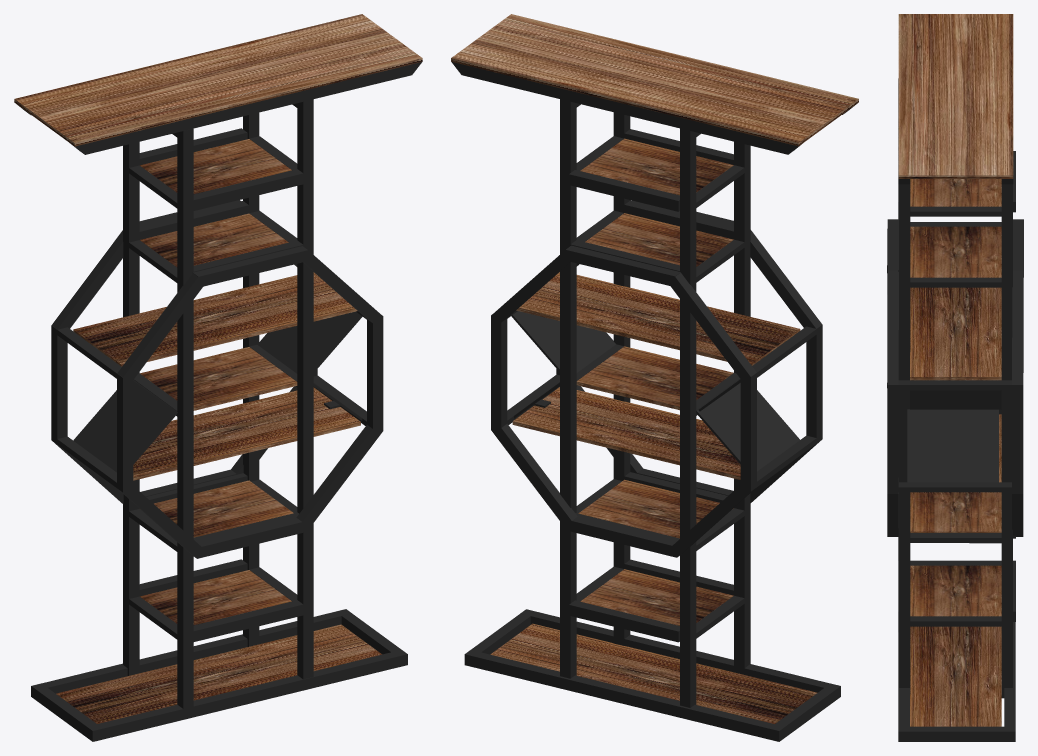
Rendered from etagere_4.glb.
The picture shows the model from 3 angles, left to right: view 1: azimuth 30°, elevation 25°; view 2: azimuth 150°, elevation 25°; view 3: azimuth 270°, elevation 25°; orthographic projection. The views are drawn at different scales.
Visible parts, largest first — view 1: Cube.096, Cube.003, Cube.136, Cube.157, Cube.153, Cube.135, Cube.155, Cube.054, Cube.146, Cube.075, Cube.133, Cube.141 (+31 smaller); view 2: Cube.096, Cube.003, Cube.136, Cube.155, Cube.154, Cube.135, Cube.157, Cube.004, Cube.146, Cube.133, Cube.075, Cube.140 (+31 smaller); view 3: Cube.096, Cube.003, Cube.136, Cube.149, Cube.154, Cube.153, Cube.150, Cube.075, Cube.140, Cube.133, Cube.143, Cube.058 (+19 smaller).
Part boxes in pixels (x1,y1,x2,y2): Cube.096: [14, 14, 422, 146]; Cube.003: [56, 624, 381, 723]; Cube.136: [73, 272, 357, 366]; Cube.157: [177, 128, 193, 718]; Cube.153: [297, 99, 313, 679]; Cube.135: [133, 387, 360, 480]; Cube.155: [123, 142, 139, 675]; Cube.054: [94, 649, 407, 741]; Cube.146: [140, 347, 297, 410]; Cube.075: [140, 570, 291, 625]; Cube.133: [140, 139, 291, 194]; Cube.141: [71, 62, 421, 154]; Cube.096: [451, 14, 858, 146]; Cube.003: [490, 623, 817, 723]; Cube.136: [516, 272, 800, 365]; Cube.155: [680, 128, 696, 707]; Cube.154: [560, 99, 576, 678]; Cube.135: [512, 387, 740, 479]; Cube.157: [734, 141, 750, 674]; Cube.004: [465, 650, 777, 741]; Cube.146: [576, 346, 733, 410]; Cube.133: [580, 138, 733, 195]; Cube.075: [580, 569, 733, 625]; Cube.140: [578, 479, 733, 538]; Cube.096: [898, 14, 1013, 178]; Cube.003: [910, 626, 1001, 726]; Cube.136: [910, 287, 1001, 380]; Cube.149: [907, 409, 998, 482]; Cube.154: [1001, 184, 1012, 698]; Cube.153: [899, 179, 910, 694]; Cube.150: [910, 226, 1001, 277]; Cube.075: [910, 565, 1001, 616]; Cube.140: [910, 492, 1001, 532]; Cube.133: [910, 179, 1001, 206]; Cube.143: [910, 390, 1001, 409]; Cube.058: [898, 726, 1015, 741].
Size of the model in its own units: 1 by 1.66 by 0.358.
Materials: 59 (2 with a texture image).
